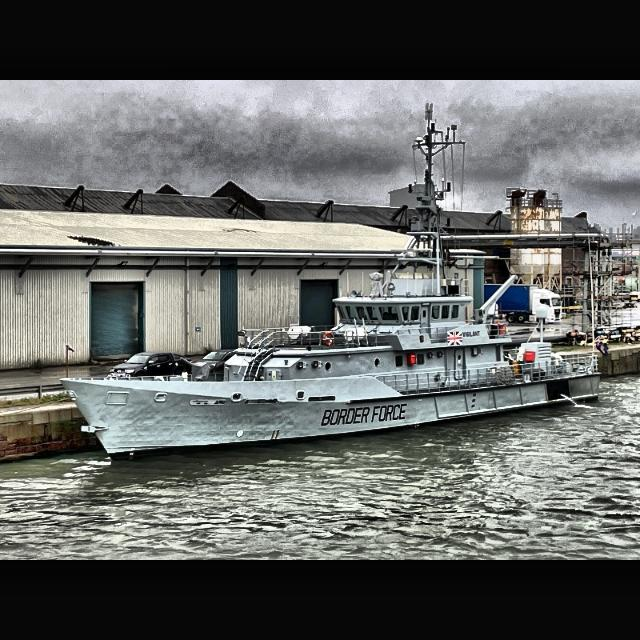patrol_vessel: (58, 179, 604, 466)
